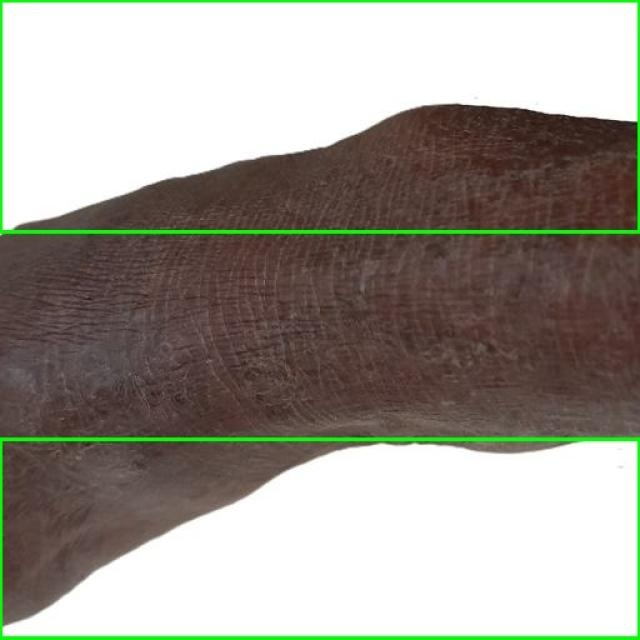Contact Dermatitis: (0, 0, 639, 231), (0, 440, 639, 639)
